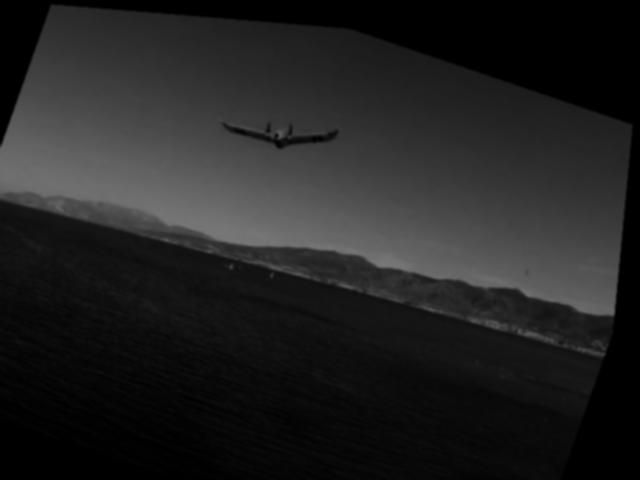hedef: (206, 72, 349, 175)
